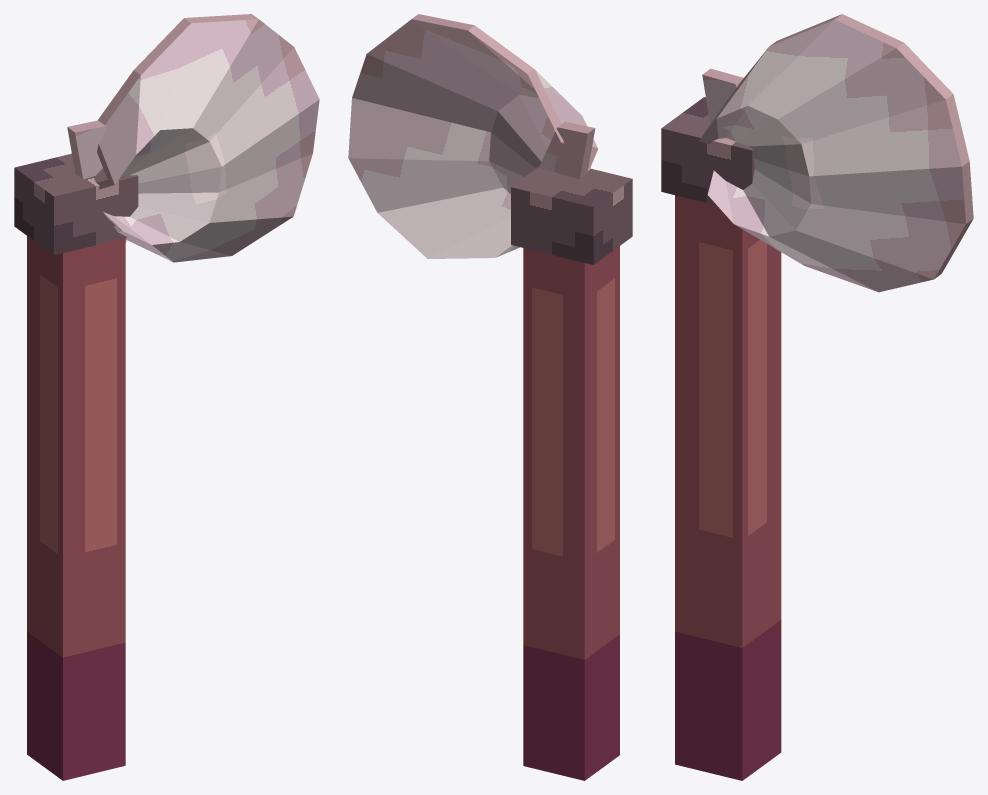
File: seashell_axe.obj
3 views of the same model, side by side, from view 1: azimuth 30°, elevation 25°; view 2: azimuth 150°, elevation 25°; view 3: azimuth 330°, elevation 25° (orthographic). The views are drawn at different scales.
Parts seen in each view (by area): view 1: shaft, fan_valve_with_radial_folds, lateral_shell_hinge_saddle, continuous_thin_shell_margin, straight_hinge_with_auricles; view 2: shaft, fan_valve_with_radial_folds, lateral_shell_hinge_saddle, straight_hinge_with_auricles, continuous_thin_shell_margin; view 3: shaft, fan_valve_with_radial_folds, lateral_shell_hinge_saddle, continuous_thin_shell_margin, straight_hinge_with_auricles.
Boxes of the visible parts, box(x1,y1,x2,y2) form: shaft: box(27, 236, 125, 780); fan_valve_with_radial_folds: box(93, 19, 319, 262); lateral_shell_hinge_saddle: box(14, 153, 138, 255); continuous_thin_shell_margin: box(97, 14, 258, 232); straight_hinge_with_auricles: box(67, 120, 126, 242); shaft: box(523, 246, 619, 780); fan_valve_with_radial_folds: box(348, 19, 597, 258); lateral_shell_hinge_saddle: box(511, 166, 632, 264); straight_hinge_with_auricles: box(539, 122, 595, 179); continuous_thin_shell_margin: box(412, 14, 597, 168); shaft: box(675, 195, 781, 780); fan_valve_with_radial_folds: box(699, 19, 965, 292); lateral_shell_hinge_saddle: box(661, 97, 754, 205); continuous_thin_shell_margin: box(770, 14, 973, 278); straight_hinge_with_auricles: box(702, 68, 743, 123).
Bounding box in the file's own units: 0.5448 × 1.37 × 0.191.
